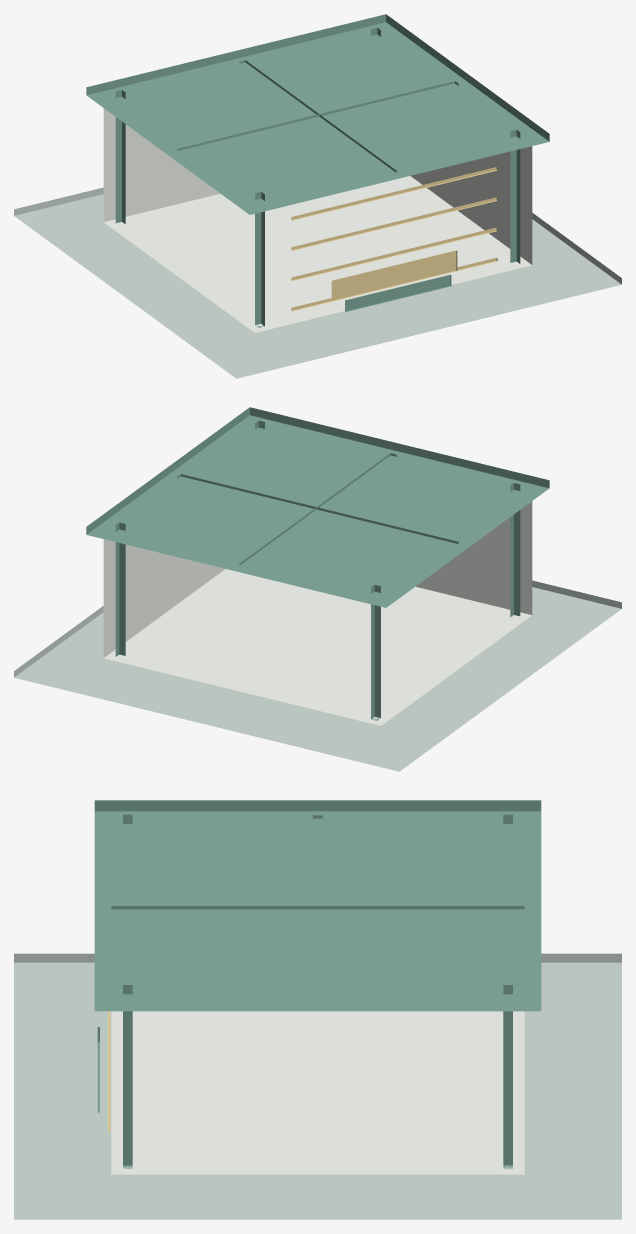
File: housing_block.glb
3 renders of one model, top to bottom at view 1: azimuth 30°, elevation 25°; view 2: azimuth 150°, elevation 25°; view 3: azimuth 270°, elevation 25°, orthographic. The views are drawn at different scales.
Visible parts, largest first — view 1: Roof, Walls, Foundation, Details, Frame; view 2: Roof, Walls, Foundation, Frame; view 3: Roof, Foundation, Walls, Frame, Details.
Part boxes in pixels (x1=…): Roof: x1=86, y1=14, x2=549, y2=214; Walls: x1=103, y1=108, x2=532, y2=332; Foundation: x1=14, y1=187, x2=621, y2=378; Details: x1=291, y1=167, x2=497, y2=311; Frame: x1=115, y1=27, x2=520, y2=327; Roof: x1=86, y1=407, x2=549, y2=607; Walls: x1=103, y1=501, x2=532, y2=725; Foundation: x1=14, y1=580, x2=621, y2=771; Frame: x1=115, y1=420, x2=520, y2=720; Roof: x1=94, y1=800, x2=541, y2=1011; Foundation: x1=14, y1=953, x2=621, y2=1219; Walls: x1=111, y1=1011, x2=524, y2=1174; Frame: x1=111, y1=814, x2=524, y2=1169; Details: x1=97, y1=1011, x2=110, y2=1131.
Bounding box in the file's own units: 40 × 13.86 × 40.
